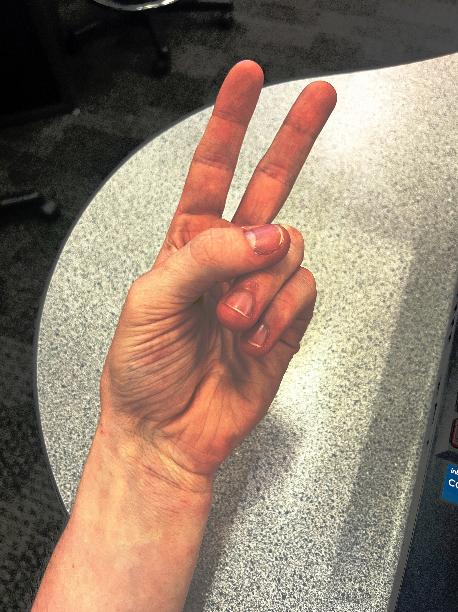Scissors: (94, 37, 360, 478)
